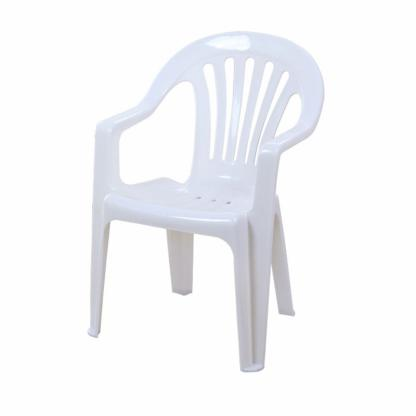chair: (88, 30, 329, 374)
